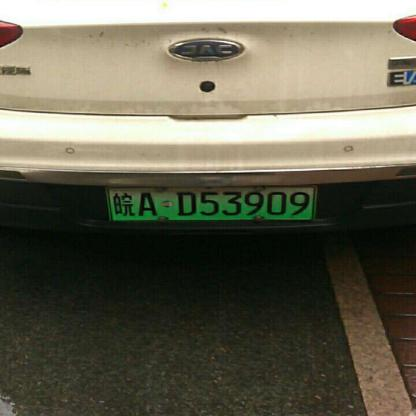lp: (107, 185, 315, 219)
